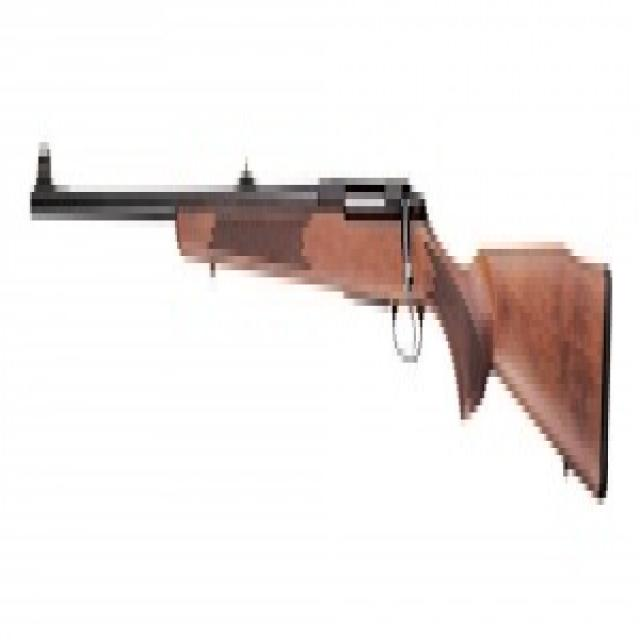rifle: (23, 127, 614, 520)
